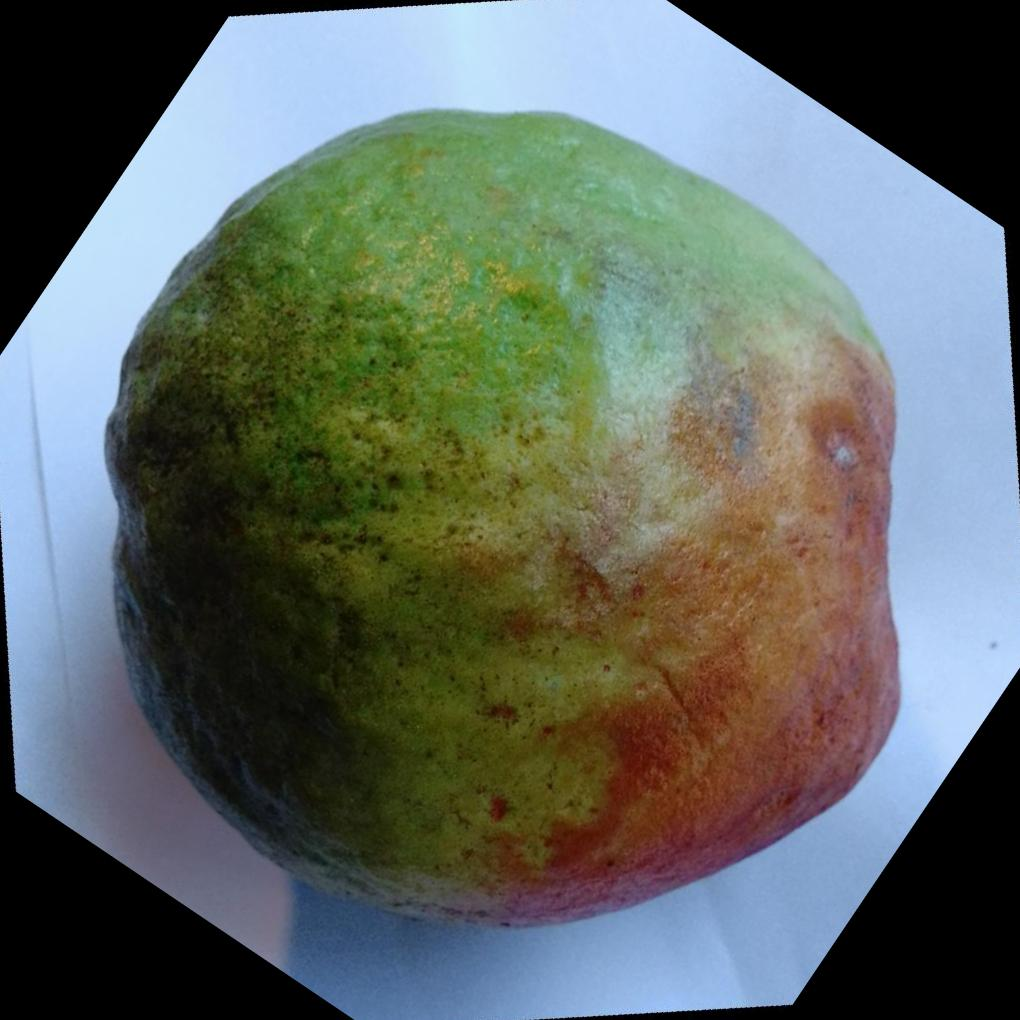FreshOrange: (99, 110, 899, 934)
